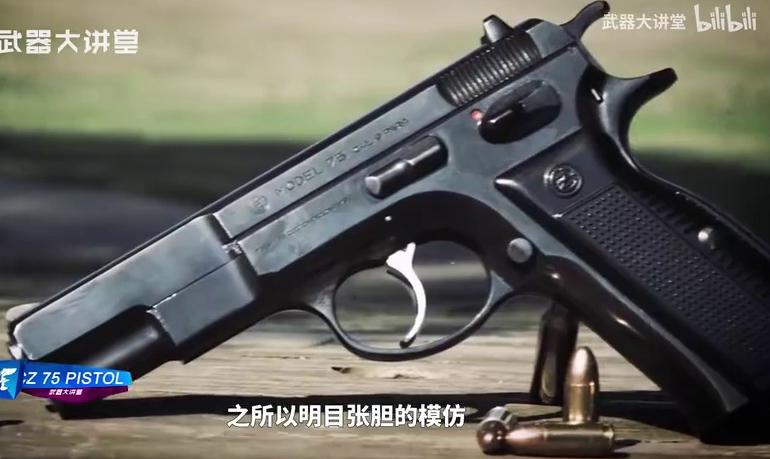gun: (1, 1, 770, 459)
